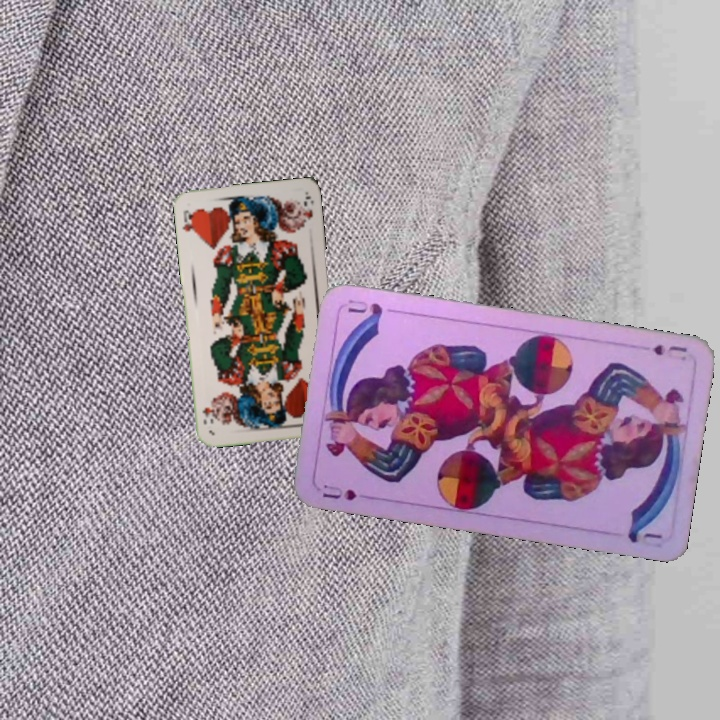HO: (179, 206, 198, 236)
SU: (318, 480, 360, 504), (649, 340, 690, 358)
